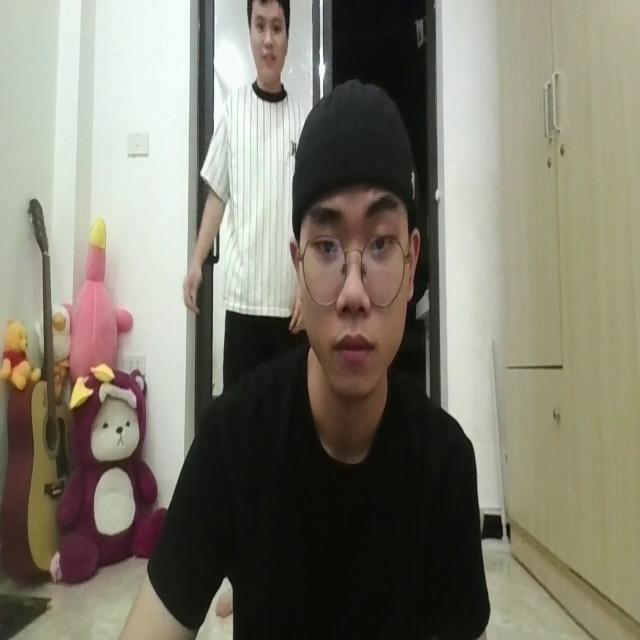extra_person: (180, 0, 305, 365)
student: (140, 82, 486, 640)
